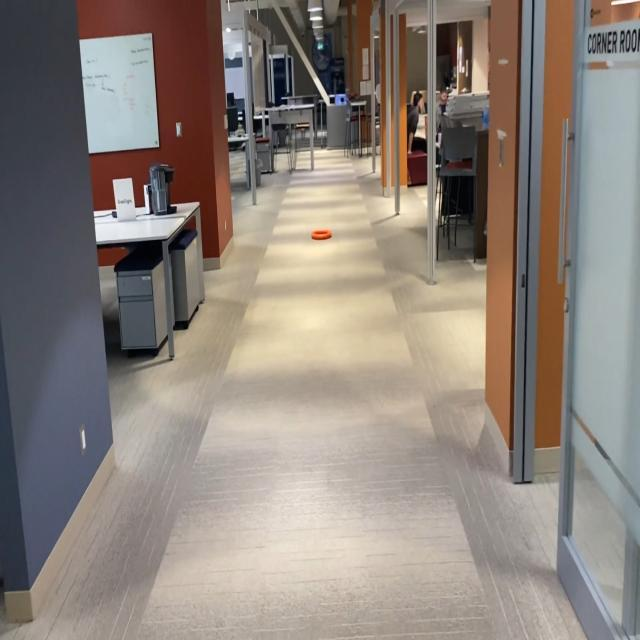note: (311, 228, 333, 240)
